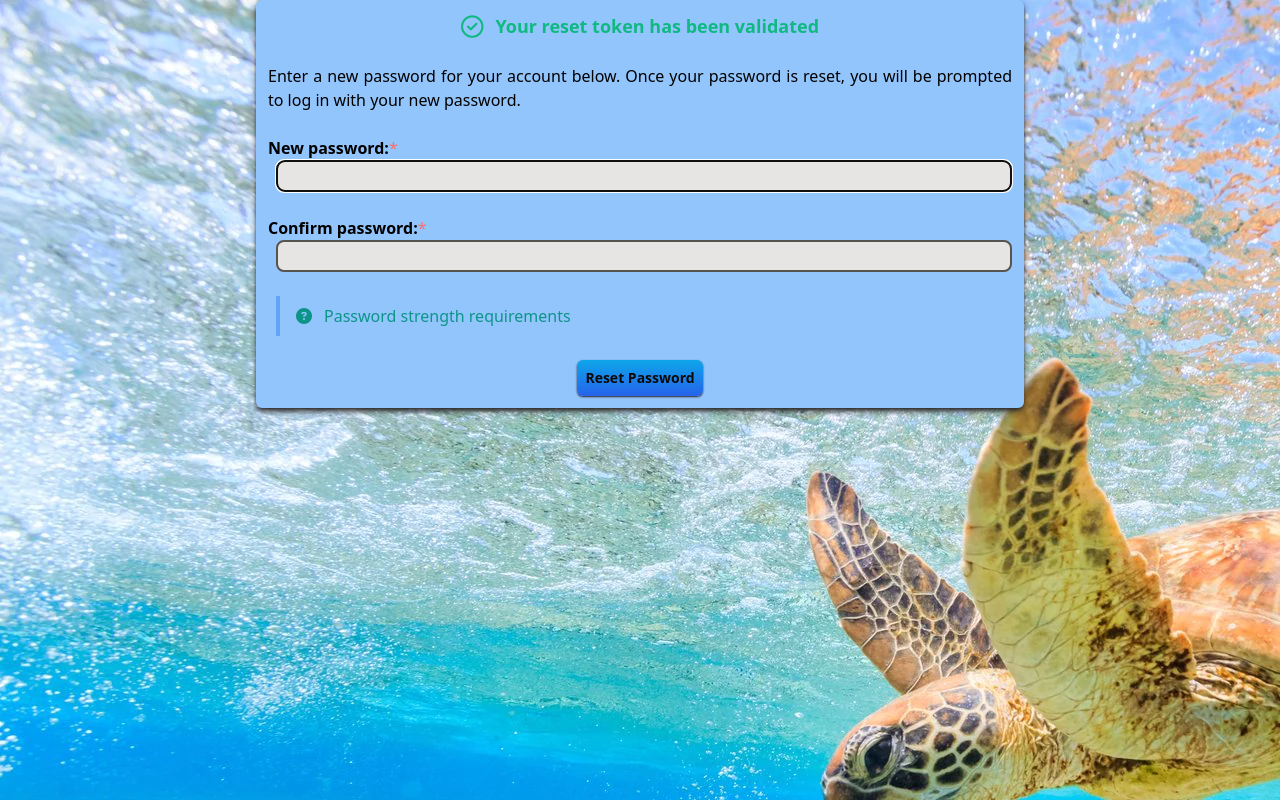
Test: ResetPassword component › will validate for missing values
This screenshot has width=1280, height=800.
Click the submit button at (640, 378), box x1=577 y1=360 x2=703 y2=396
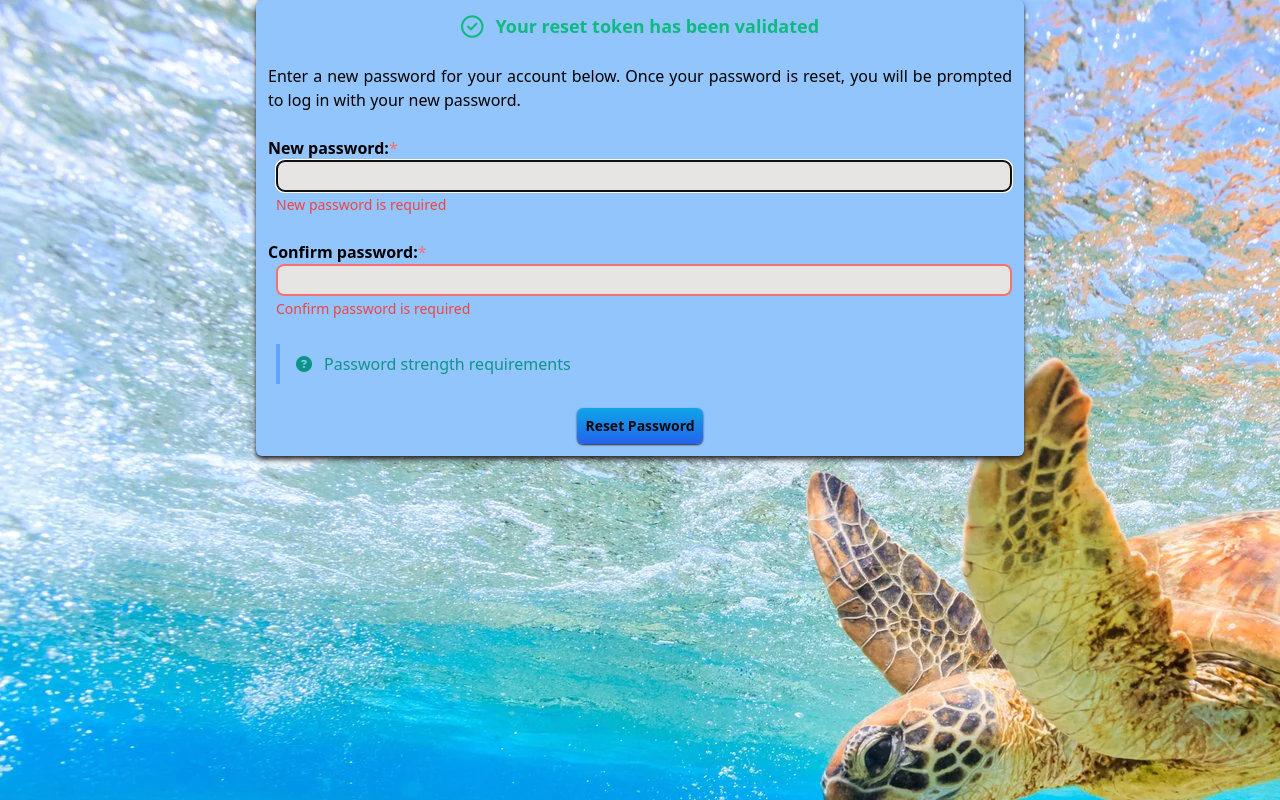
Expected: the text with test id "password-error" reads "New password is required", x1=276 y1=195 x2=446 y2=214
Expected: the text with test id "confirmPassword-error" reads "Confirm password is required", x1=276 y1=299 x2=470 y2=318
